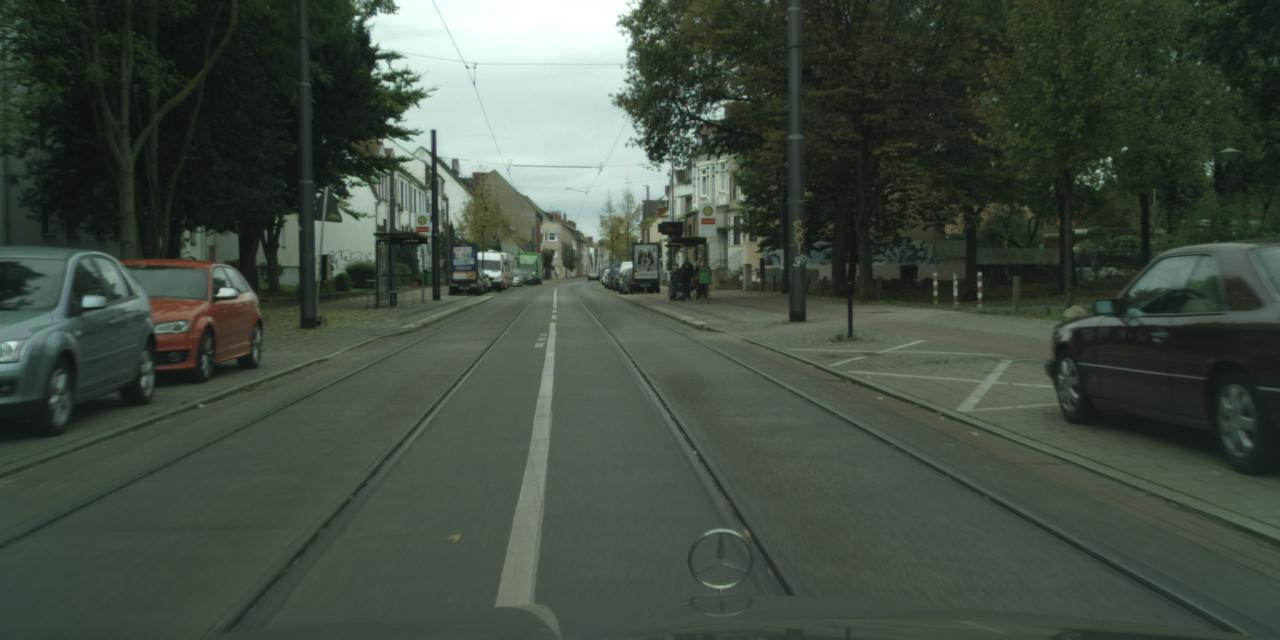ped: (667, 255, 695, 302), (692, 258, 709, 302)
